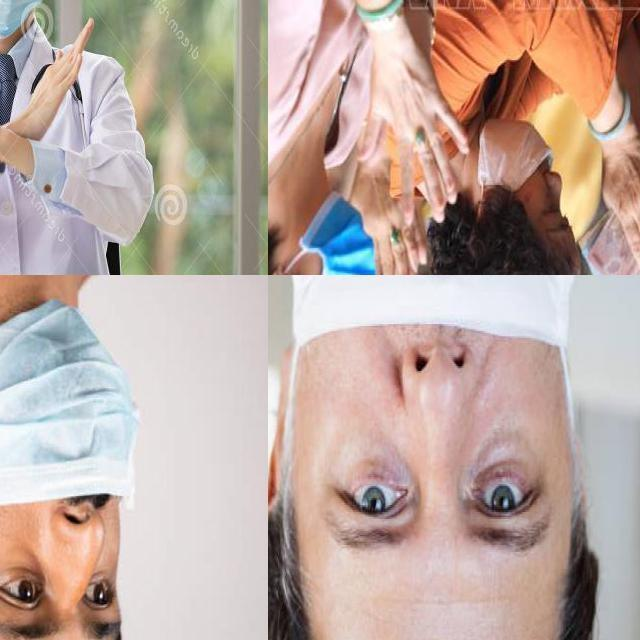hairnet: (286, 275, 563, 447), (0, 333, 128, 550), (472, 118, 562, 215)
